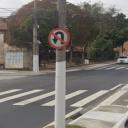NoVirarU: (48, 28, 70, 49)
